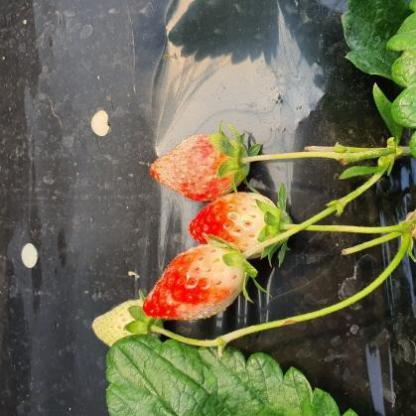Strawberry_Powdery_Mildew_Fruit: (142, 244, 248, 321), (148, 132, 251, 202)
